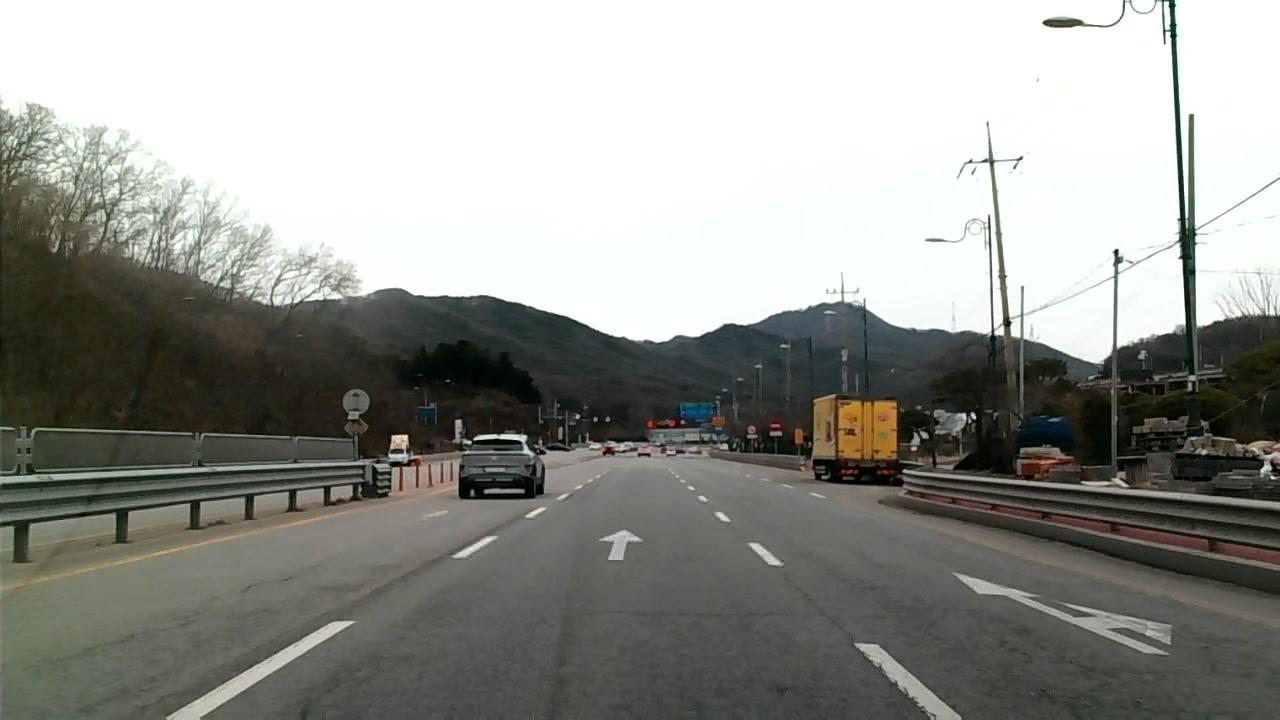hcrack: (598, 603, 754, 621)
vcrack: (998, 626, 1135, 720), (53, 617, 189, 664), (779, 571, 858, 639), (355, 556, 445, 601), (242, 569, 301, 595)
